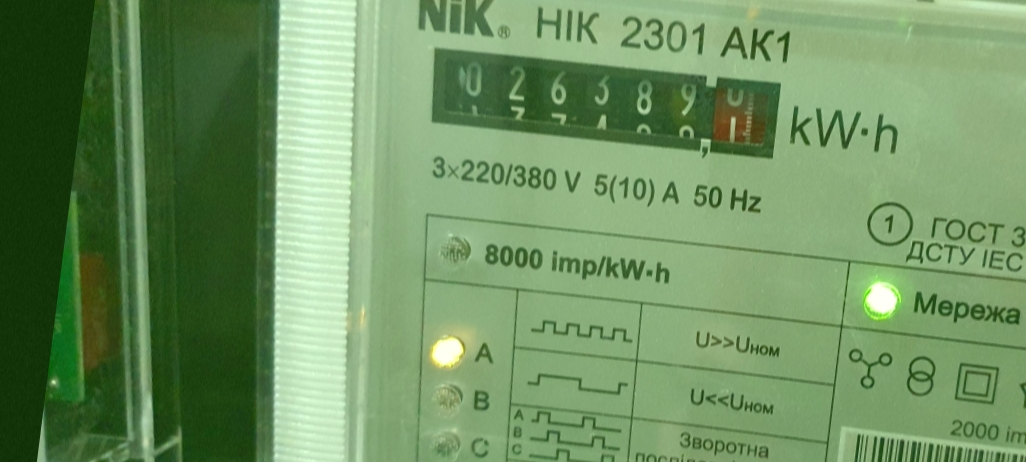0: (461, 57, 489, 99), (725, 86, 746, 108)
1: (725, 113, 742, 145)
2: (505, 62, 533, 104)
3: (592, 72, 613, 108)
6: (549, 66, 571, 107)
8: (634, 77, 659, 117)
9: (677, 81, 699, 117)
screen: (411, 26, 800, 178)
